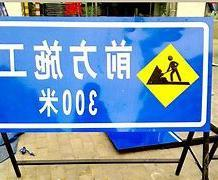sign: (1, 18, 208, 130)
